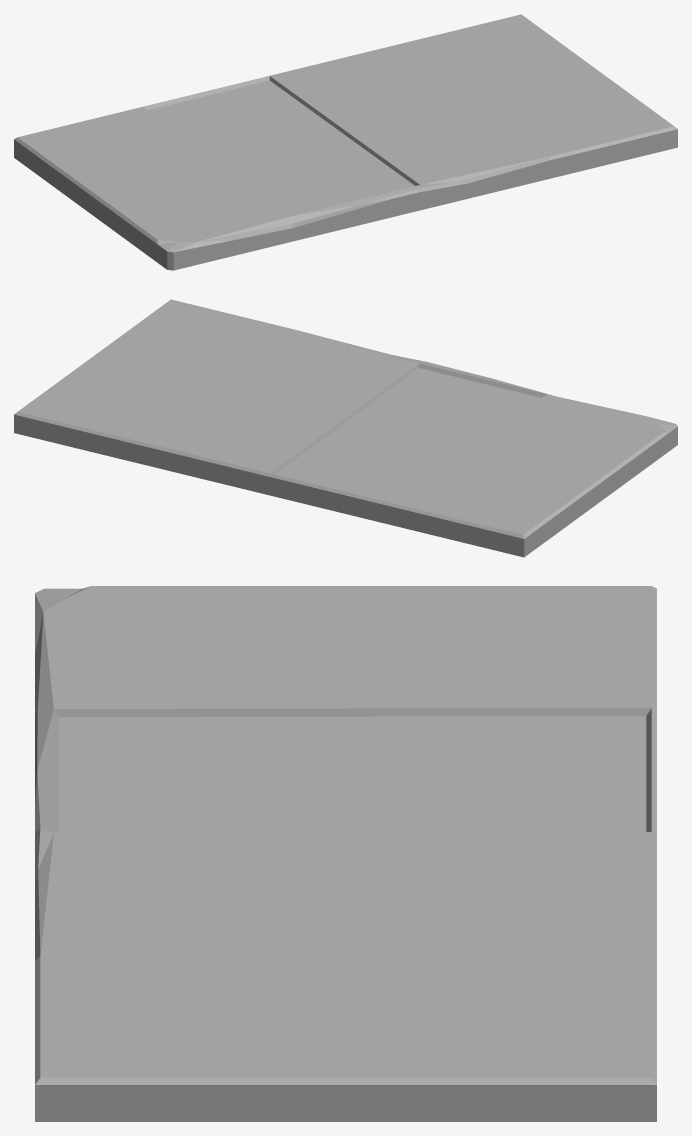
Rendered from bz_cocrete_plane_01.fbx.
The picture shows the model from 3 angles, top to bottom: view 1: azimuth 30°, elevation 25°; view 2: azimuth 150°, elevation 25°; view 3: azimuth 270°, elevation 25°; orthographic projection. The views are drawn at different scales.
Visible parts, largest first — view 1: bz_cocrete_plane_01; view 2: bz_cocrete_plane_01; view 3: bz_cocrete_plane_01.
Part boxes in pixels (left/top/right/bottom): bz_cocrete_plane_01: left=14, top=14, right=677, bottom=270; bz_cocrete_plane_01: left=14, top=299, right=677, bottom=557; bz_cocrete_plane_01: left=35, top=586, right=656, bottom=1121.
Size of the model in its own units: 4.21 by 0.1653 by 2.23.
